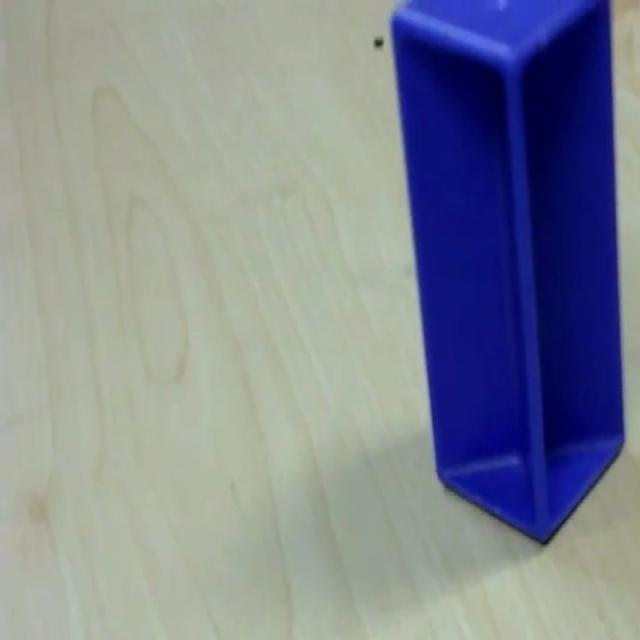blue_block: (388, 0, 626, 544)
